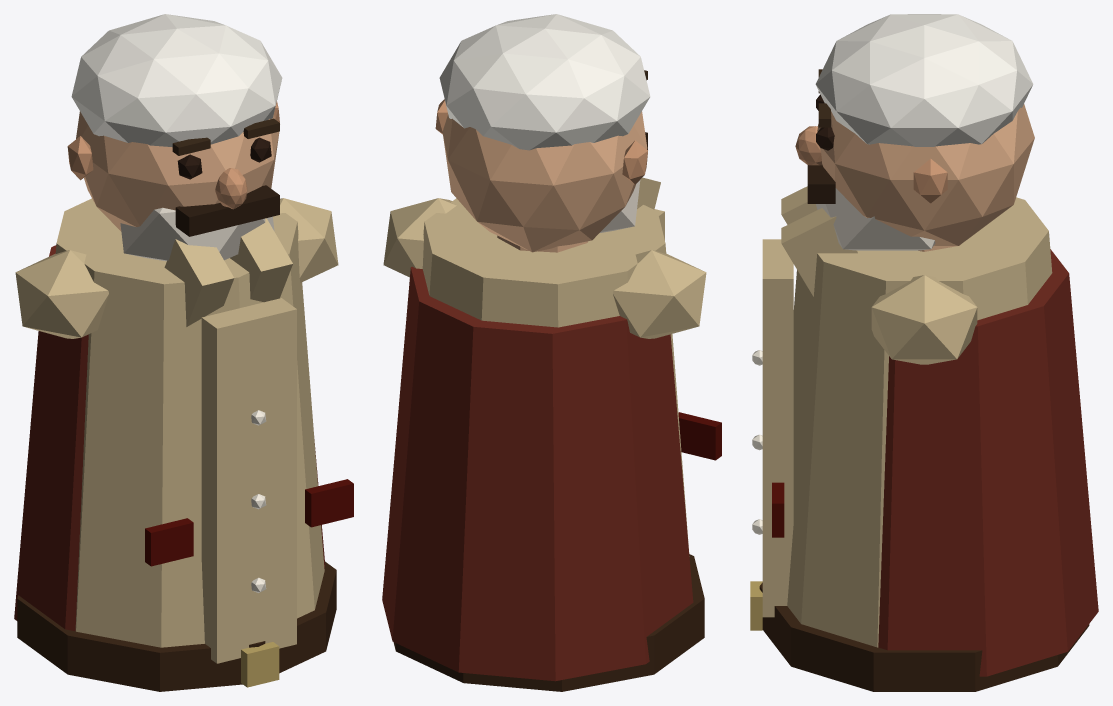
The model's file is insan_e2_govde.glb.
The picture shows the model from 3 angles, left to right: view 1: azimuth 30°, elevation 25°; view 2: azimuth 150°, elevation 25°; view 3: azimuth 270°, elevation 25°; orthographic projection.
Visible parts, largest first — view 1: Cone; view 2: Cone; view 3: Cone.
Part boxes in pixels (x1,y1,x2,y2): Cone: [14, 14, 353, 691]; Cone: [382, 14, 721, 691]; Cone: [750, 14, 1098, 691].
Bounding box in the file's own units: 0.1158 × 0.213 × 0.112.
